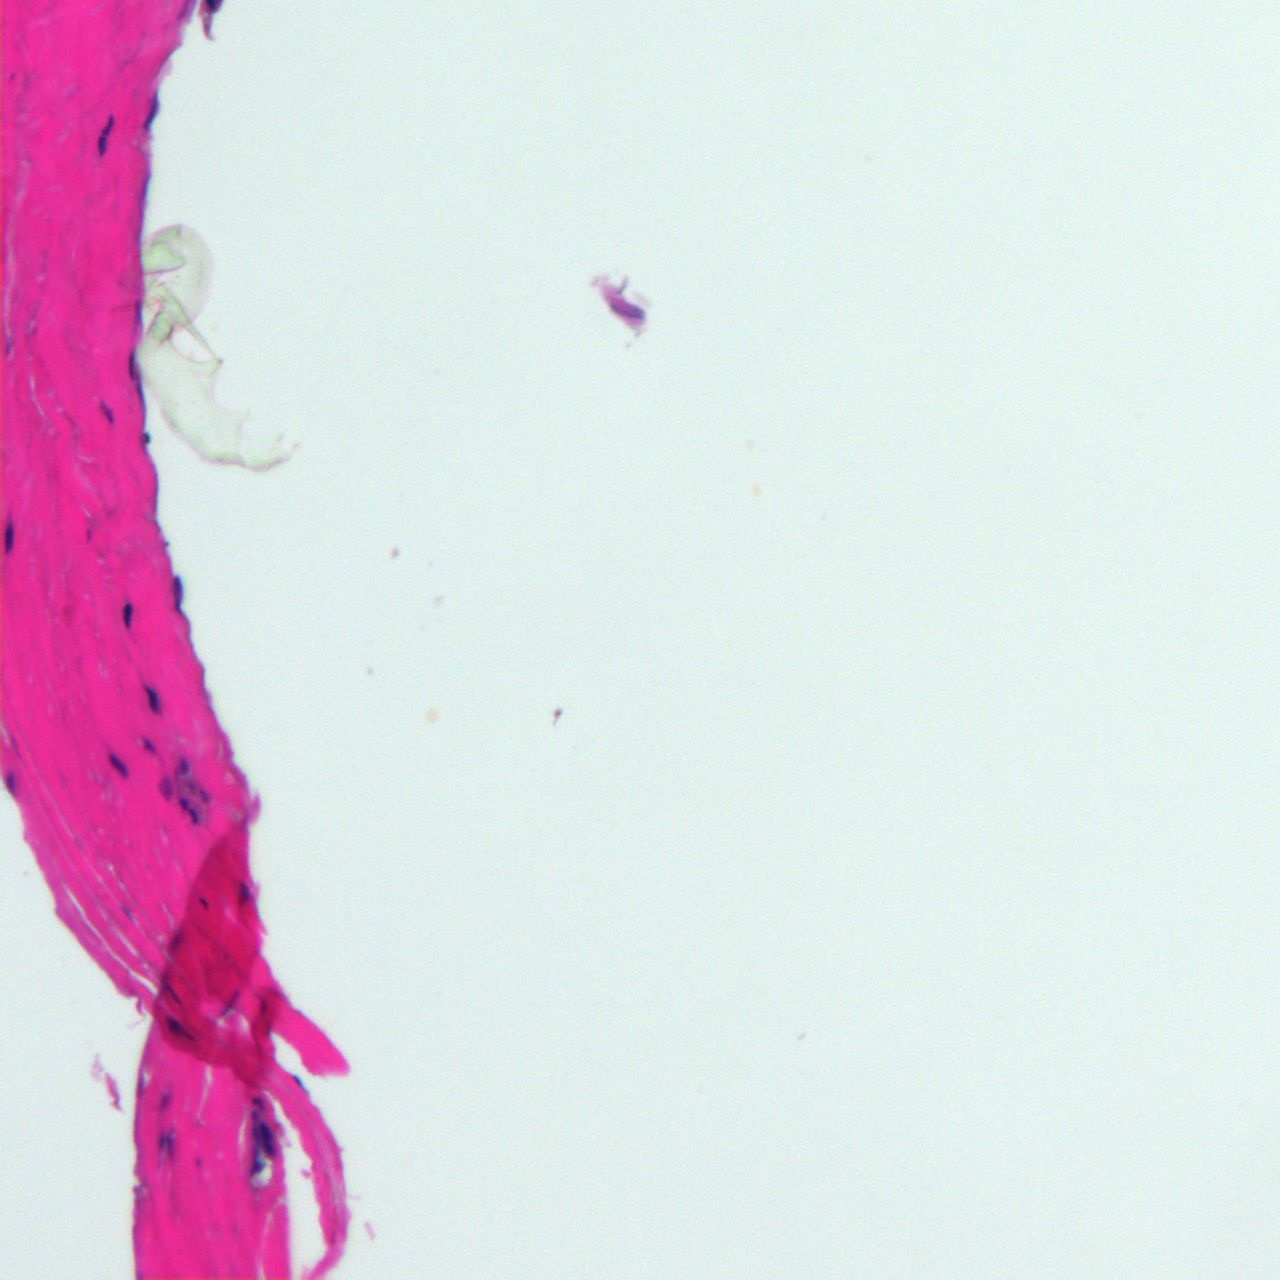nucleus-HE: (163, 1015, 198, 1044), (138, 91, 164, 129), (93, 110, 114, 156), (259, 1121, 279, 1160), (107, 748, 131, 777), (142, 683, 164, 715), (135, 731, 159, 760), (156, 1125, 173, 1163), (248, 1156, 267, 1180), (136, 375, 145, 420), (2, 771, 20, 794), (157, 776, 173, 799), (4, 519, 14, 554), (176, 758, 192, 779), (237, 881, 252, 904), (172, 576, 182, 610), (100, 401, 113, 424), (122, 601, 132, 628), (134, 298, 142, 329), (251, 1096, 267, 1111), (199, 788, 211, 803), (128, 350, 134, 377), (189, 808, 198, 824), (199, 896, 207, 908), (142, 430, 149, 443), (179, 798, 188, 808)
